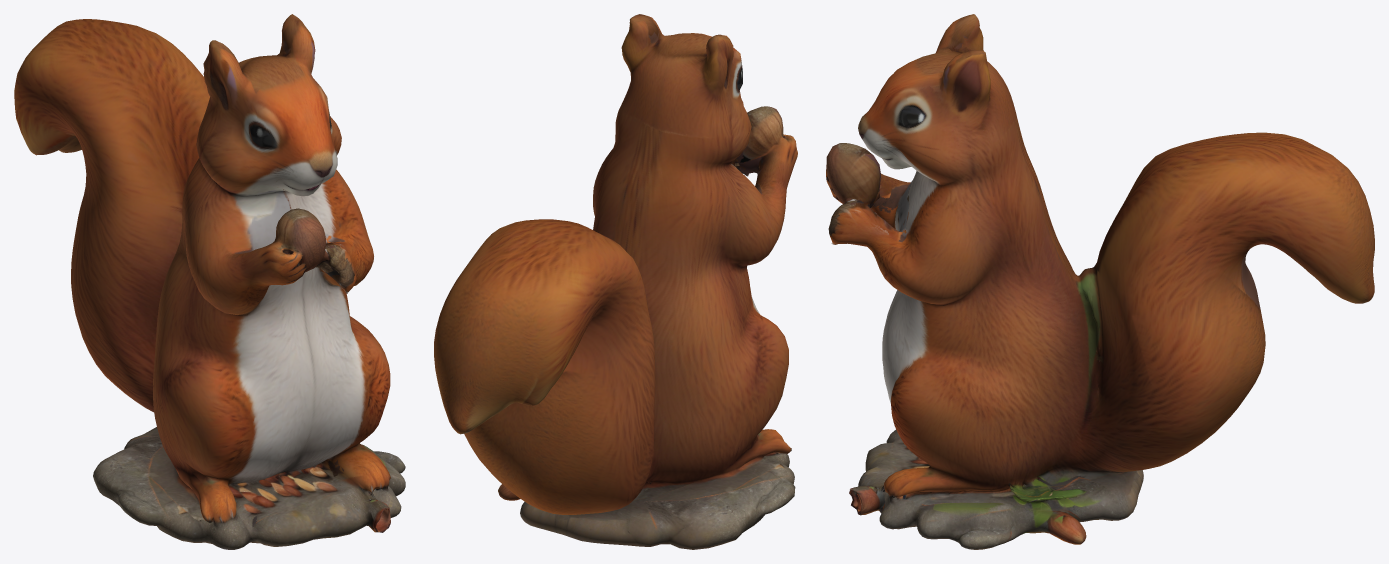
Rendered from moki.glb.
3 renders of one model, left to right at view 1: azimuth 30°, elevation 25°; view 2: azimuth 150°, elevation 25°; view 3: azimuth 270°, elevation 25°, orthographic. The views are drawn at different scales.
Size of the model in its own units: 1.05 by 1.81 by 1.97.
1 material, 1 textured.
